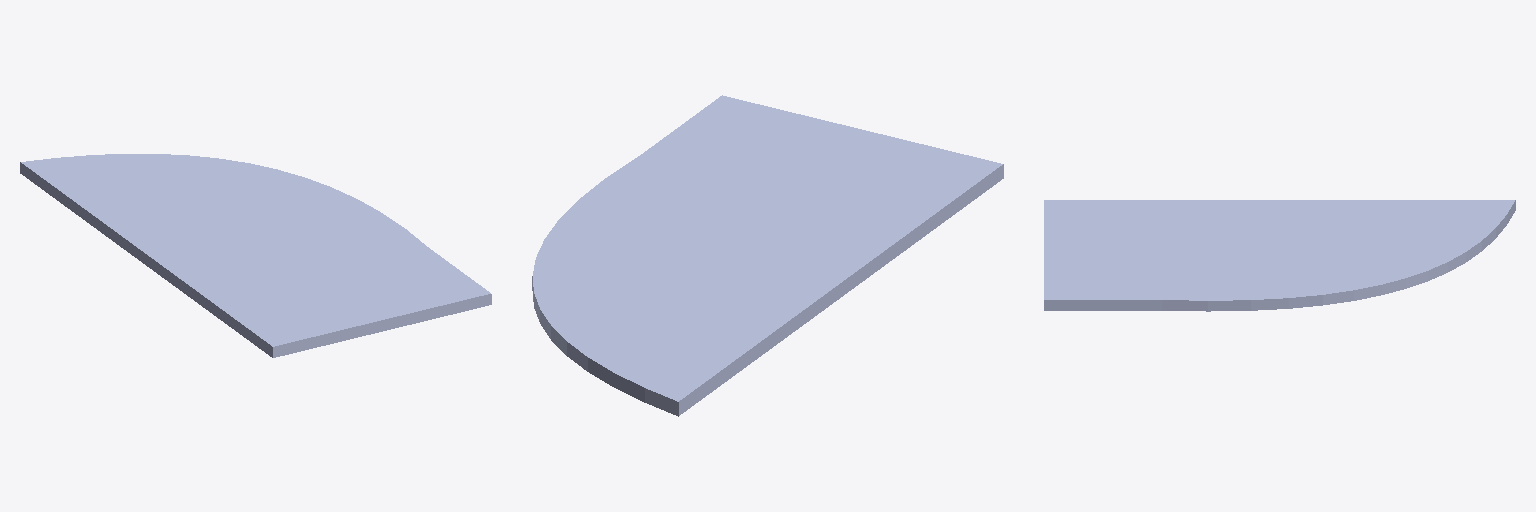
robot.urdf — construction_site_v1:
<?xml version="1.0" encoding="utf-8"?>
<!-- This URDF was automatically created by SolidWorks to URDF Exporter! Originally created by [author] ([email redacted]) 
     Commit Version: 1.6.0-1-g15f4949  Build Version: 1.6.7594.29634
     For more information, please see http://wiki.ros.org/sw_urdf_exporter -->
<robot
  name="construction_site_v1">
  <link
    name="base_link">
    <inertial>
      <origin
        xyz="4.60542566473058 8.789229252565 -0.249999954358866"
        rpy="0 0 0" />
      <mass
        value="86121.5338639703" />
      <inertia
        ixx="2372230.23424314"
        ixy="261585.553769868"
        ixz="0.104941669528739"
        iyy="676519.160967181"
        iyz="0.0495396920137303"
        izz="3045161.0231658" />
    </inertial>
    <visual>
      <origin
        xyz="0 0 0"
        rpy="0 0 0" />
      <geometry>
        <mesh
          filename="package://construction_site_v1/meshes/base_link.STL" />
      </geometry>
      <material
        name="">
        <color
          rgba="0.792156862745098 0.819607843137255 0.933333333333333 1" />
      </material>
    </visual>
    <collision>
      <origin
        xyz="0 0 0"
        rpy="0 0 0" />
      <geometry>
        <mesh
          filename="package://construction_site_v1/meshes/base_link.STL" />
      </geometry>
    </collision>
  </link>
</robot>

--- Facts derived from the render (not from the file) ---
The picture shows the robot from 3 angles, left to right: view 1: azimuth 30°, elevation 25°; view 2: azimuth 150°, elevation 25°; view 3: azimuth 270°, elevation 25°; orthographic projection.
Model construction_site_v1 with 1 links and 0 joints (none), rooted at base_link, posed every joint at zero.
Links seen in each view (by area): view 1: base_link; view 2: base_link; view 3: base_link.
Link boxes in pixels (bbox=[...]): base_link: bbox=[20, 154, 491, 357]; base_link: bbox=[532, 95, 1003, 416]; base_link: bbox=[1044, 200, 1515, 311].
Bounding box of the posed robot: 10.09 × 20 × 0.5 m (x, y, z).
1 mesh visuals loaded from 1 distinct referenced files (1 binary STL).